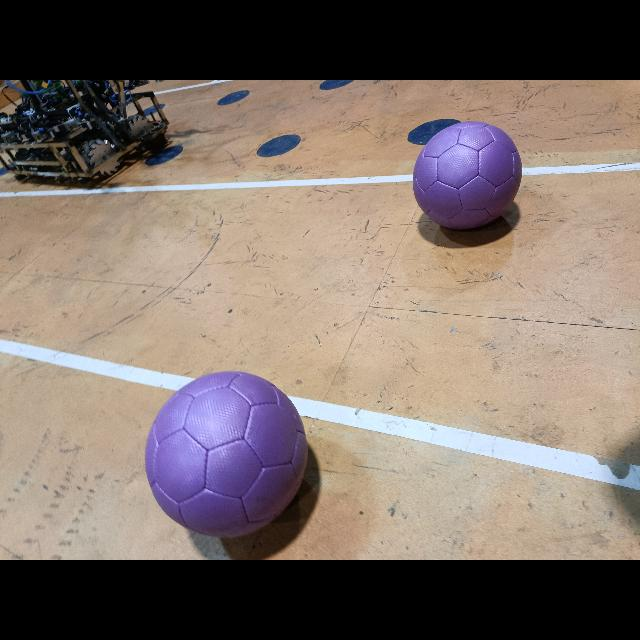P: (146, 371, 308, 537), (412, 122, 522, 228)
